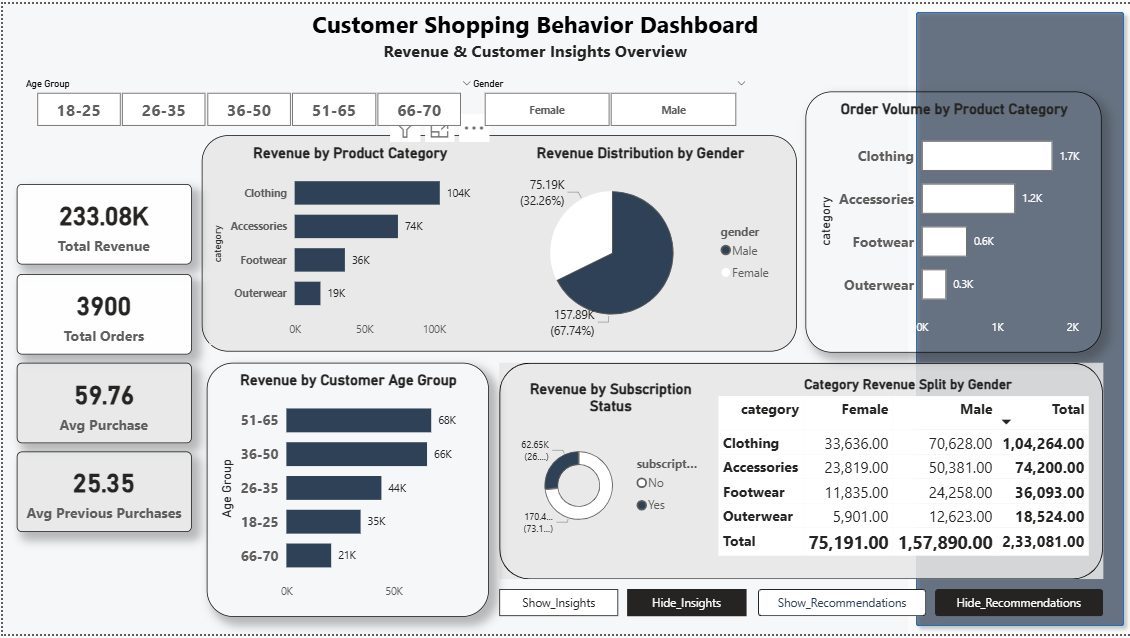

This screenshot's page, from the dashboard's own definition file:
{"tool":"powerbi","page":{"name":"Dashboard","canvas":[1290,720],"ordinal":0},"visuals":[{"type":"shape","box":[227.5,150,680,247.5],"z":0},{"type":"shape","box":[1034,0,256,720],"z":1000},{"type":"shape","box":[567.5,410,690,247.5],"z":2000},{"type":"clusteredBarChart","title":"Revenue by Product Category","fields":{"Category":["customer_behavior.category"],"Y":["Sum(customer_behavior.purchase_amount)"]},"box":[235,160,322.5,230],"z":3000},{"type":"card","fields":{"Values":["customer_behavior.Total Revenue"]},"box":[16,206,199.8,92],"z":4000},{"type":"clusteredBarChart","title":"Revenue by Customer Age Group","fields":{"Y":["Sum(customer_behavior.purchase_amount)"],"Category":["customer_behavior.Age Group"]},"box":[232.5,410,322.5,290],"z":5000},{"type":"card","fields":{"Values":["customer_behavior.Total Orders"]},"box":[16,308,200,92],"z":6000},{"type":"pieChart","title":"Revenue Distribution by Gender","fields":{"Category":["customer_behavior.gender"],"Y":["Sum(customer_behavior.purchase_amount)"]},"box":[567.1,160,322.9,230],"z":7000},{"type":"card","fields":{"Values":["customer_behavior.Avg Purchase"]},"box":[16,410,199.8,92],"z":8000},{"type":"donutChart","title":"Revenue by Subscription Status","fields":{"Category":["customer_behavior.subscription_status"],"Y":["Sum(customer_behavior.purchase_amount)"]},"box":[587.5,430,215,202.5],"z":9000},{"type":"card","fields":{"Values":["customer_behavior.Avg Previous Purchases"]},"box":[16,512,200,92],"z":10000},{"type":"pivotTable","title":"Category Revenue Split by Gender","fields":{"Rows":["customer_behavior.category"],"Columns":["customer_behavior.gender"],"Values":["Sum(customer_behavior.purchase_amount)"]},"box":[812.9,425.7,442.9,217.1],"z":11000},{"type":"clusteredBarChart","title":"Order Volume by Product Category","fields":{"Y":["CountNonNull(customer_behavior.customer_id)"],"Category":["customer_behavior.category"]},"box":[917.1,100,338.6,298.6],"z":12000},{"type":"group","id":"g1","title":"Group 1","box":[13.2,80,849.3,66.2],"z":13000},{"type":"slicer","fields":{"Values":["customer_behavior.Age Group"]},"box":[13.2,80,534.6,66.2],"z":13500,"group":"g1"},{"type":"textbox","box":[192,0,834,80],"z":14000},{"type":"slicer","fields":{"Values":["customer_behavior.gender"]},"box":[525.3,80,337.2,66.2],"z":14000,"group":"g1"},{"type":"bookmarkNavigator","box":[567.1,668.6,282.9,31.4],"z":17000},{"type":"bookmarkNavigator","box":[862.9,668.6,394.3,31.4],"z":18000}]}

Visuals, with their boxes in screenshot pixels (x1, y1, x2, y2), scaled from the page's 1290x720 canvas onto the 1130x638 screenshot:
shape: x1=199, y1=133, x2=795, y2=352
shape: x1=906, y1=0, x2=1129, y2=637
shape: x1=497, y1=363, x2=1102, y2=583
"Revenue by Product Category" clusteredBarChart: x1=206, y1=142, x2=488, y2=346
card - customer_behavior.Total Revenue: x1=14, y1=183, x2=189, y2=264
"Revenue by Customer Age Group" clusteredBarChart: x1=204, y1=363, x2=486, y2=620
card - customer_behavior.Total Orders: x1=14, y1=273, x2=189, y2=354
"Revenue Distribution by Gender" pieChart: x1=497, y1=142, x2=780, y2=346
card - customer_behavior.Avg Purchase: x1=14, y1=363, x2=189, y2=445
"Revenue by Subscription Status" donutChart: x1=515, y1=381, x2=703, y2=560
card - customer_behavior.Avg Previous Purchases: x1=14, y1=454, x2=189, y2=535
"Category Revenue Split by Gender" pivotTable: x1=712, y1=377, x2=1100, y2=570
"Order Volume by Product Category" clusteredBarChart: x1=803, y1=89, x2=1100, y2=353
"Group 1" group: x1=12, y1=71, x2=756, y2=130
slicer - customer_behavior.Age Group: x1=12, y1=71, x2=480, y2=130
textbox: x1=168, y1=0, x2=899, y2=71
slicer - customer_behavior.gender: x1=460, y1=71, x2=756, y2=130
bookmarkNavigator: x1=497, y1=592, x2=745, y2=620
bookmarkNavigator: x1=756, y1=592, x2=1101, y2=620
